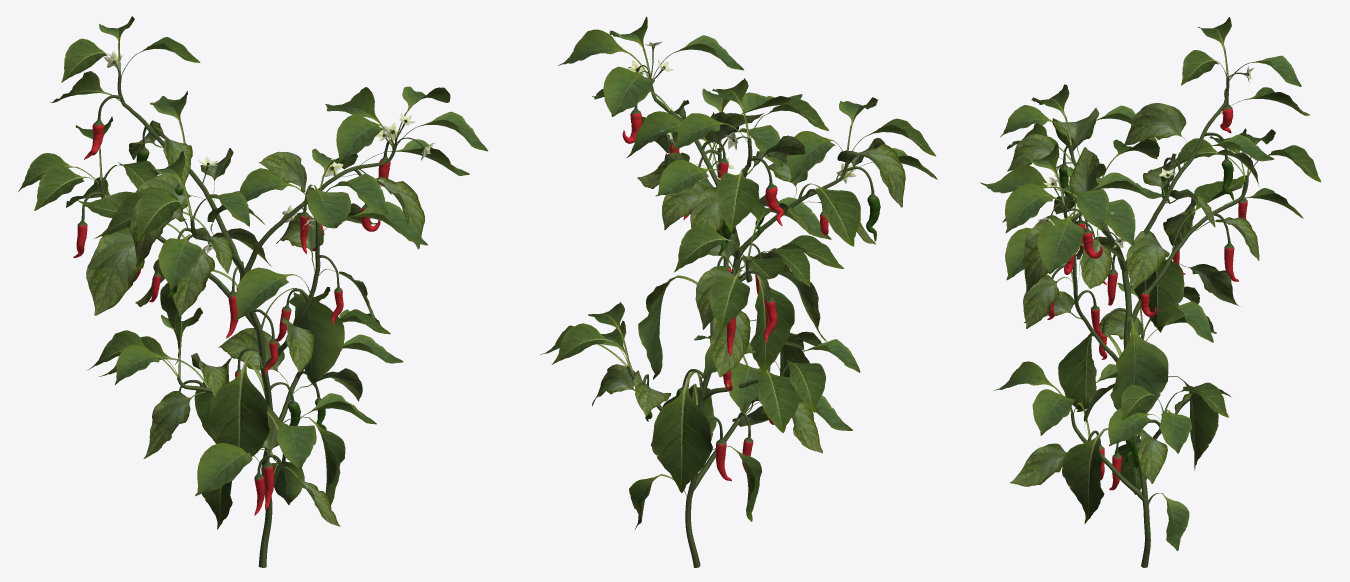
File: pepper.obj
3 renders of one model, left to right at view 1: azimuth 30°, elevation 25°; view 2: azimuth 150°, elevation 25°; view 3: azimuth 270°, elevation 25°, orthographic. The views are drawn at different scales.
Parts seen in each view (by area): view 1: Obj3d66-7852863-1-514.095; view 2: Obj3d66-7852863-1-514.095; view 3: Obj3d66-7852863-1-514.095.
Part boxes in pixels (<box>): Obj3d66-7852863-1-514.095: <box>18,16,487,567</box>; Obj3d66-7852863-1-514.095: <box>540,16,937,567</box>; Obj3d66-7852863-1-514.095: <box>980,17,1320,567</box>.
Bounding box in the file's own units: 0.785 × 1.09 × 0.7257.
Materials: 11 (10 with a texture image).
